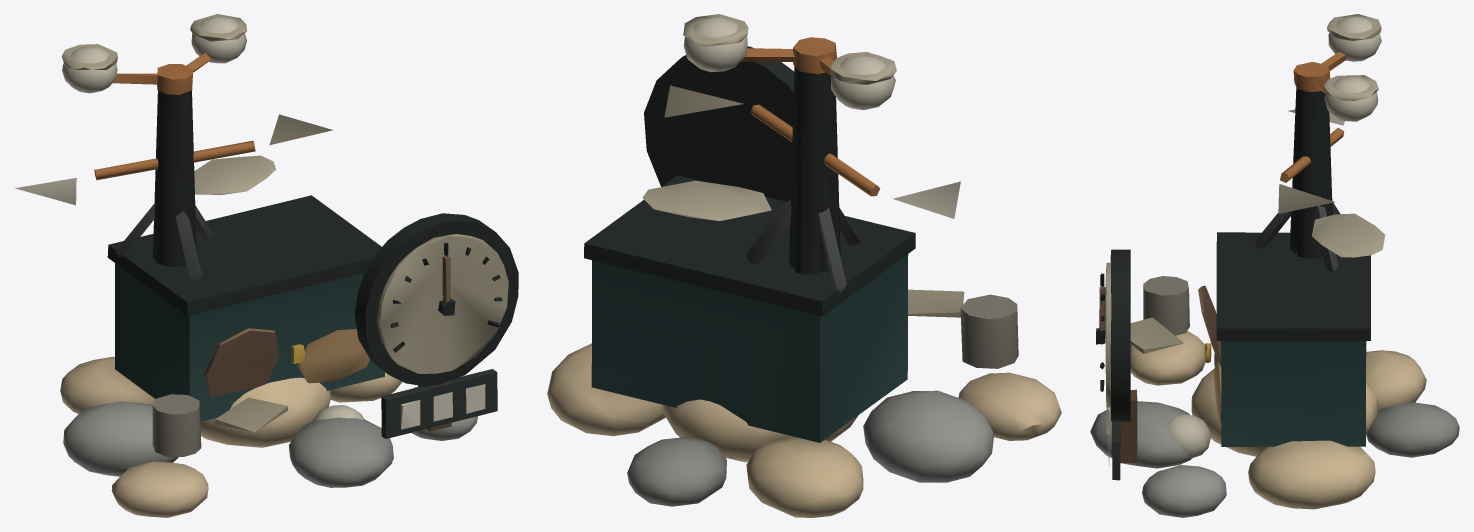
The model's file is storm_station_b_lod2.glb.
3 views of the same model, side by side, from view 1: azimuth 30°, elevation 25°; view 2: azimuth 150°, elevation 25°; view 3: azimuth 270°, elevation 25° (orthographic). The views are drawn at different scales.
Visible parts, largest first — view 1: Surface.001; view 2: Surface.001; view 3: Surface.001.
Boxes of the visible parts, x1,y1,x2,y2 form: Surface.001: (15, 14, 518, 517); Surface.001: (547, 14, 1061, 517); Surface.001: (1090, 14, 1459, 517).
Bounding box in the file's own units: 4.65 × 4.52 × 4.06.
